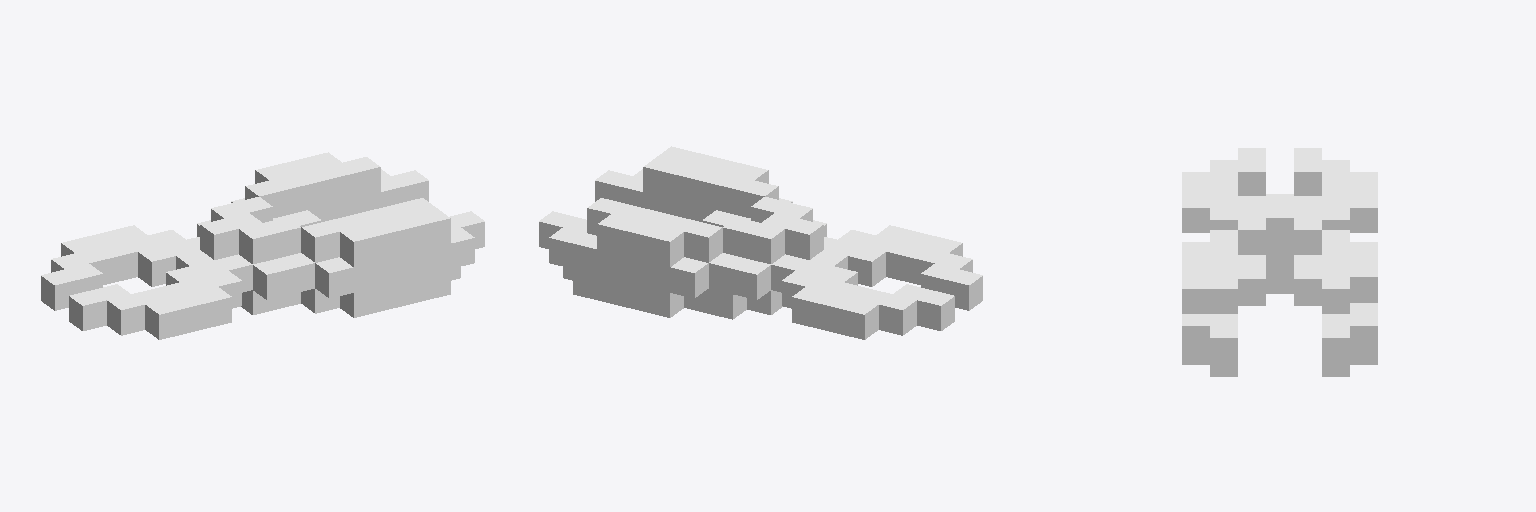
Rendered from pince.obj.
The picture shows the model from 3 angles: view 1: azimuth 30°, elevation 25°; view 2: azimuth 150°, elevation 25°; view 3: azimuth 270°, elevation 25°; orthographic projection.
Visible parts, largest first — view 1: object 1; view 2: object 1; view 3: object 1.
Boxes of the visible parts, x1,y1,x2,y2 form: object 1: [41, 152, 484, 339]; object 1: [539, 146, 982, 339]; object 1: [1182, 148, 1377, 376].
Bounding box in the file's own units: 1.6 × 0.3 × 0.7.